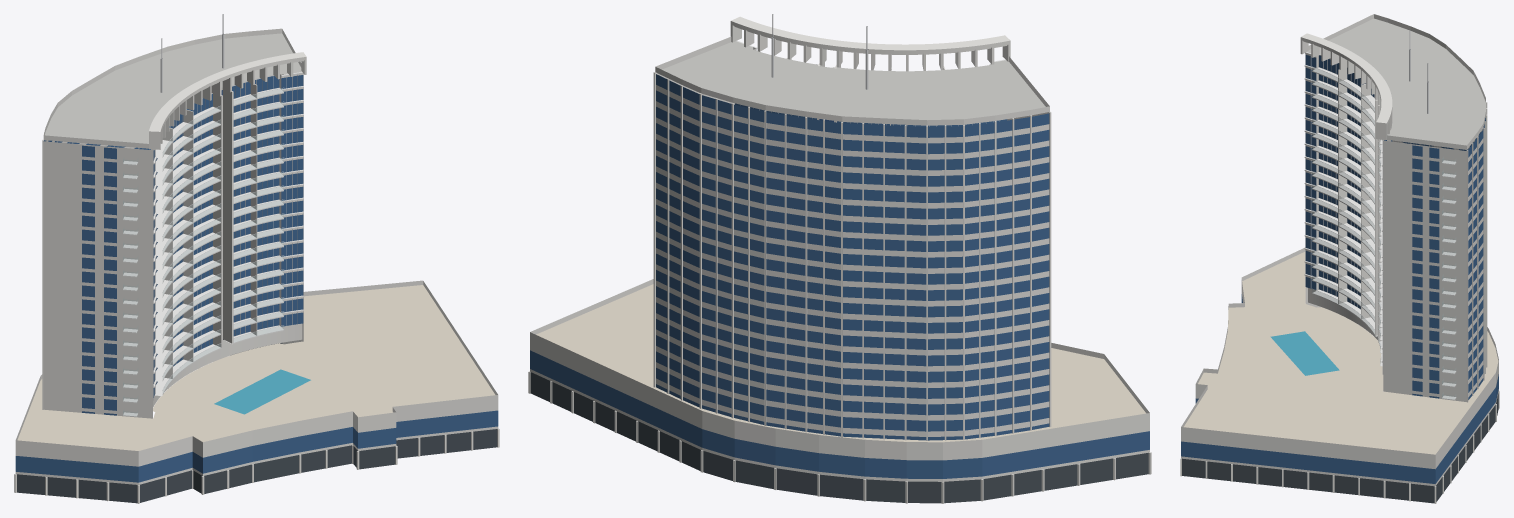
The model's file is dorra.glb.
The picture shows the model from 3 angles, left to right: view 1: azimuth 30°, elevation 25°; view 2: azimuth 150°, elevation 25°; view 3: azimuth 270°, elevation 25°; orthographic projection. The views are drawn at different scales.
Parts seen in each view (by area): view 1: D_tower; view 2: D_tower; view 3: D_tower, D_unit.
Boxes of the visible parts, box(x1,y1,x2,y2) form: D_tower: box(14, 14, 499, 503); D_tower: box(528, 14, 1151, 503); D_tower: box(1180, 14, 1499, 503); D_unit: box(1305, 132, 1346, 160).
Size of the model in its own units: 123 by 93.01 by 77.58.
